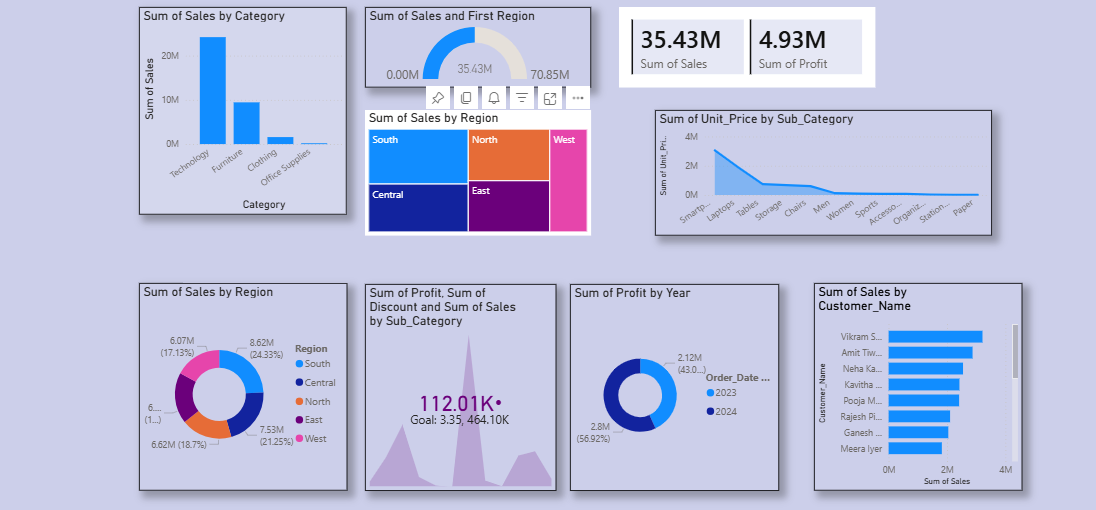

The dashboard page shown, as its layout file describes it:
{"tool":"powerbi","page":{"name":"Page 1","canvas":[1280,720],"ordinal":0},"visuals":[{"type":"lineStackedColumnComboChart","fields":{"Category":["Sales_Data.Category"],"Y":["Sum(Sales_Data.Sales)"]},"box":[28.6,25.2,280.5,280.5],"z":0},{"type":"barChart","fields":{"Category":["Sales_Data.Customer_Name"],"Y":["Sum(Sales_Data.Sales)"]},"box":[942.4,399.8,282.2,280.5],"z":1},{"type":"donutChart","fields":{"Category":["Sales_Data.Order_Date.Variation.Date Hierarchy.Year","Sales_Data.Order_Date.Variation.Date Hierarchy.Quarter","Sales_Data.Order_Date.Variation.Date Hierarchy.Month","Sales_Data.Order_Date.Variation.Date Hierarchy.Day","Sales_Data.Sales"],"Y":["Sum(Sales_Data.Profit)"]},"box":[611.4,400,282.9,280],"z":2},{"type":"donutChart","fields":{"Category":["Sales_Data.Region"],"Y":["Sum(Sales_Data.Sales)"]},"box":[28.6,399.8,282.2,280.5],"z":3},{"type":"gauge","fields":{"Y":["Sum(Sales_Data.Sales)"]},"box":[334.3,25.7,305.7,108.6],"z":4},{"type":"areaChart","fields":{"Category":["Sales_Data.Sub_Category"],"Y":["Sum(Sales_Data.Unit_Price)"]},"box":[727.1,165.7,455.7,170],"z":5},{"type":"cardVisual","fields":{"Data":["Sum(Sales_Data.Sales)","Sum(Sales_Data.Profit)"]},"box":[678.6,25.7,347.1,108.6],"z":6},{"type":"treemap","fields":{"Group":["Sales_Data.Region"],"Values":["Sum(Sales_Data.Sales)"]},"box":[334.3,165.7,305.7,170],"z":8},{"type":"kpi","fields":{"TrendLine":["Sales_Data.Sub_Category"],"Indicator":["Sum(Sales_Data.Profit)"],"Goal":["Sum(Sales_Data.Discount)","Sum(Sales_Data.Sales)"]},"box":[334.3,400,258.6,280],"z":9}]}

Visuals, with their boxes in screenshot pixels (x1, y1, x2, y2):
lineStackedColumnComboChart - Sales_Data.Category x Sum(Sales_Data.Sales): <box>141,10,344,213</box>
barChart - Sales_Data.Customer_Name x Sum(Sales_Data.Sales): <box>804,281,1008,485</box>
donutChart - Sales_Data.Order_Date.Variation.Date Hierarchy.Year x Sales_Data.Order_Date.Variation.Date Hierarchy.Quarter: <box>563,282,769,485</box>
donutChart - Sales_Data.Region x Sum(Sales_Data.Sales): <box>141,281,345,485</box>
gauge - Sum(Sales_Data.Sales): <box>362,10,584,89</box>
areaChart - Sales_Data.Sub_Category x Sum(Sales_Data.Unit_Price): <box>647,112,978,235</box>
cardVisual - Sum(Sales_Data.Sales) x Sum(Sales_Data.Profit): <box>612,10,864,89</box>
treemap - Sales_Data.Region x Sum(Sales_Data.Sales): <box>362,112,584,235</box>
kpi - Sales_Data.Sub_Category x Sum(Sales_Data.Profit): <box>362,282,550,485</box>
